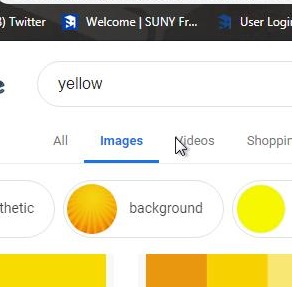cursor: (173, 136, 187, 157)
